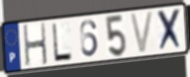5: (103, 12, 128, 59)
6: (79, 19, 100, 59)
H: (22, 21, 49, 68)
L: (51, 22, 75, 63)
V: (128, 9, 156, 56)
X: (156, 7, 184, 54)
